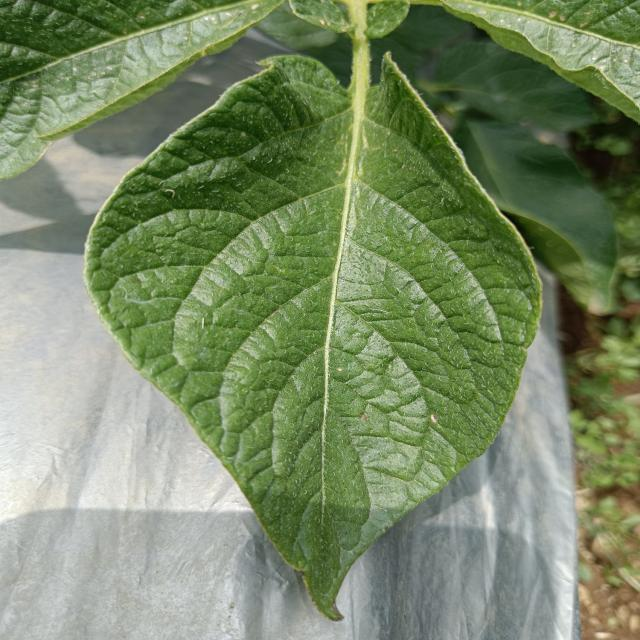healthy: (80, 45, 546, 622)
